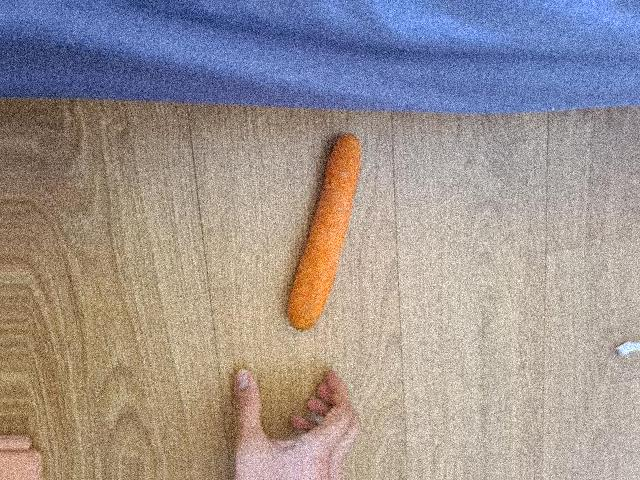carrot: (287, 131, 358, 329)
